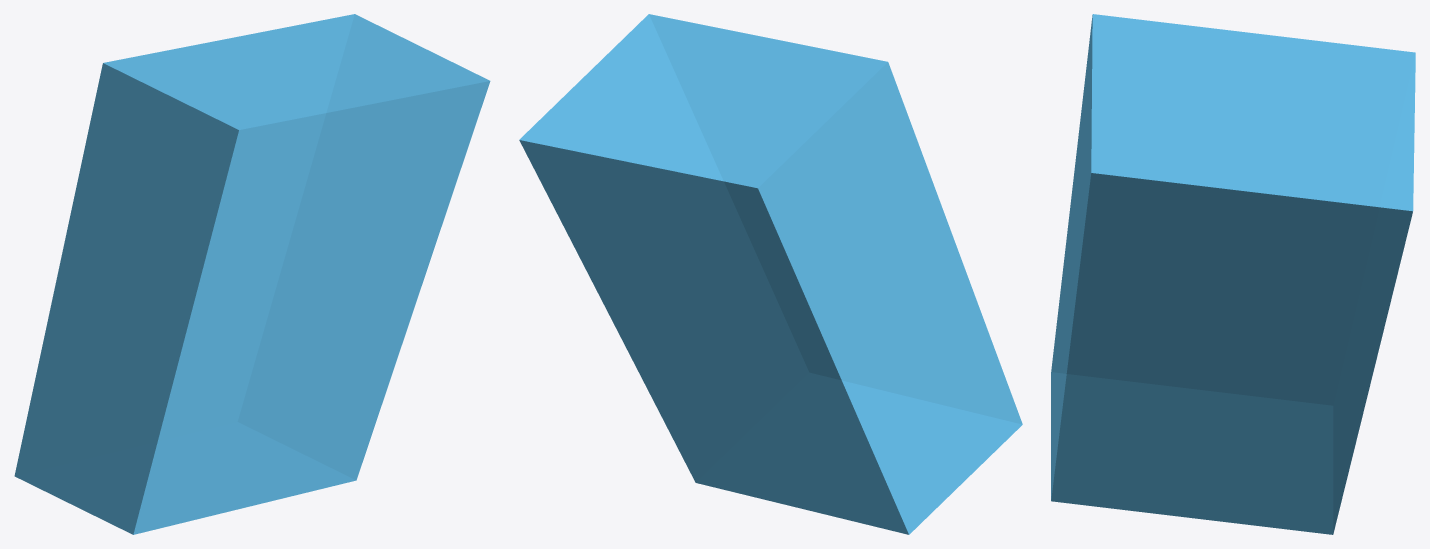
File: Event_421115418_HBrechit_26.fbx
The picture shows the model from 3 angles, left to right: view 1: azimuth 30°, elevation 25°; view 2: azimuth 150°, elevation 25°; view 3: azimuth 270°, elevation 25°; orthographic projection. The views are drawn at different scales.
Parts seen in each view (by area): view 1: Model; view 2: Model; view 3: Model.
Boxes of the visible parts, bbox=[...] form: Model: bbox=[14, 14, 490, 534]; Model: bbox=[519, 14, 1022, 534]; Model: bbox=[1051, 14, 1415, 534].
Size of the model in its own units: 0.7236 by 0.7215 by 0.5149.
